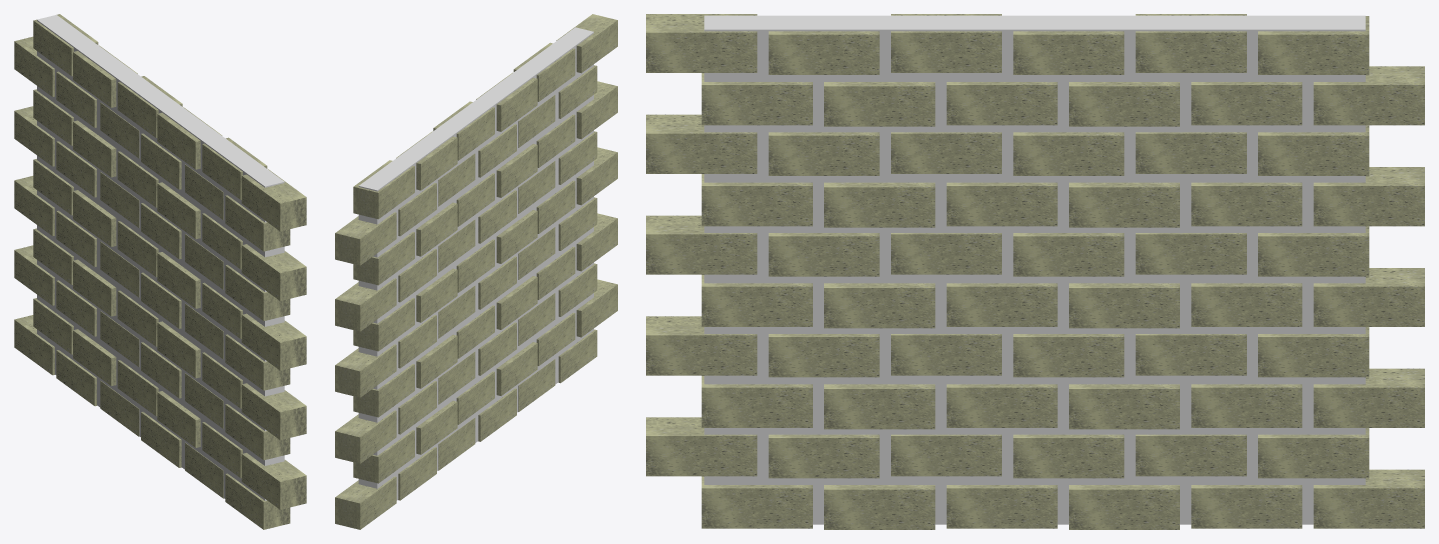
File: BrickWallShortWithLargeBrickEndings.glb
3 renders of one model, left to right at view 1: azimuth 30°, elevation 25°; view 2: azimuth 150°, elevation 25°; view 3: azimuth 270°, elevation 25°, orthographic. The views are drawn at different scales.
Visible parts, largest first — view 1: BrickWallShortWithLargeBricksEndings; view 2: BrickWallShortWithLargeBricksEndings; view 3: BrickWallShortWithLargeBricksEndings.
Part boxes in pixels (<box>): BrickWallShortWithLargeBricksEndings: <box>14,14,306,529</box>; BrickWallShortWithLargeBricksEndings: <box>335,14,617,529</box>; BrickWallShortWithLargeBricksEndings: <box>646,14,1424,529</box>.
Size of the model in its own units: 0.4677 by 4.92 by 7.
Materials: 2 (1 with a texture image).
